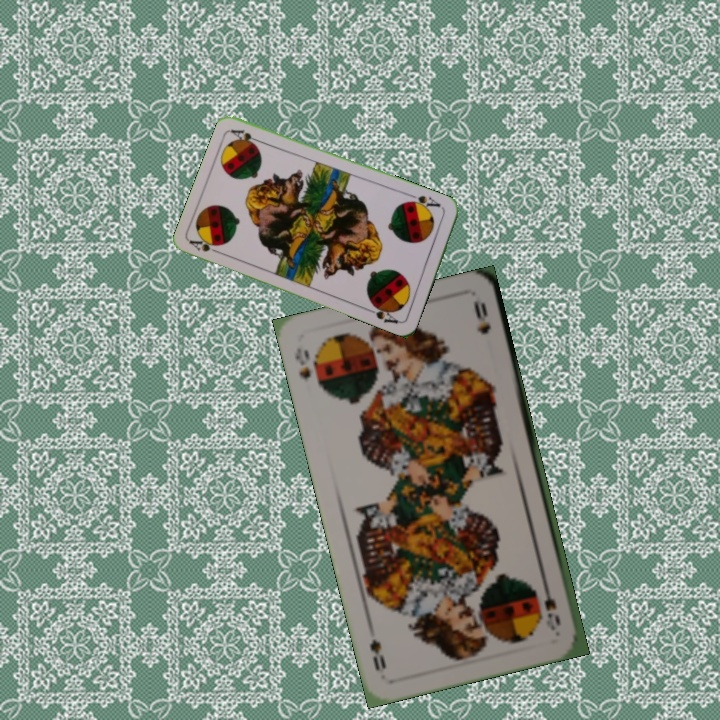SA: (186, 233, 226, 257), (404, 191, 445, 213)
SO: (538, 576, 563, 634), (291, 344, 314, 382)
